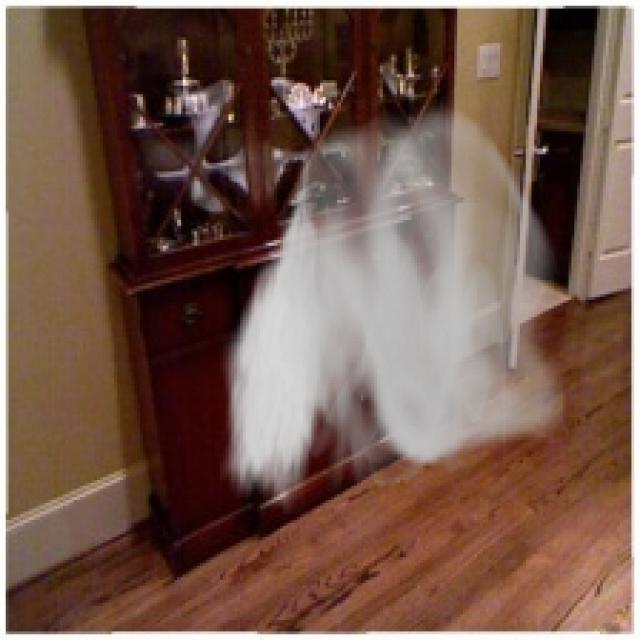smoke: (220, 94, 566, 514)
